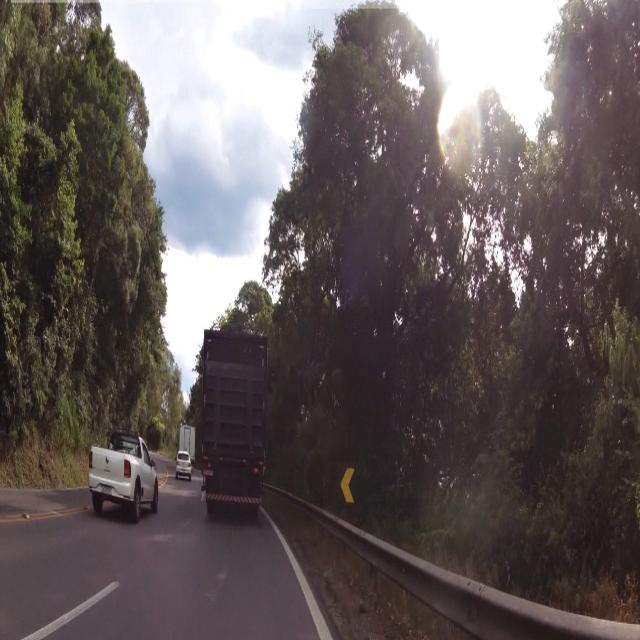Del: (339, 463, 365, 517)
